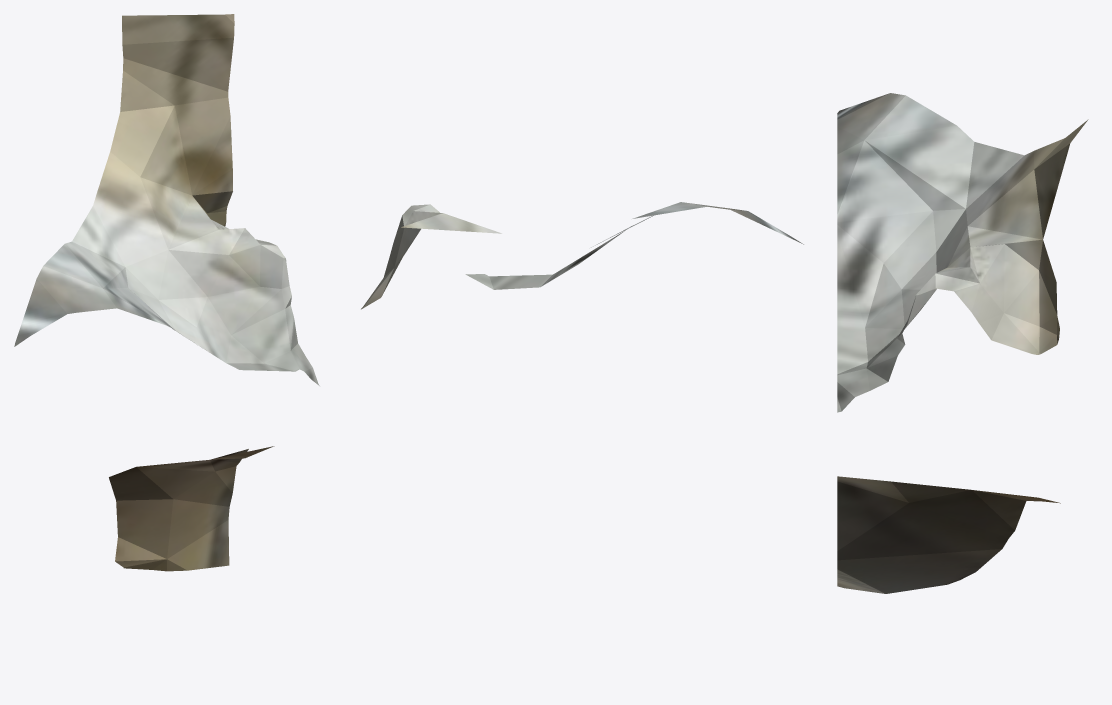
The picture shows the model from 3 angles, left to right: view 1: azimuth 30°, elevation 25°; view 2: azimuth 150°, elevation 25°; view 3: azimuth 270°, elevation 25°; orthographic projection. The views are drawn at different scales.
Bounding box in the file's own units: 0.9676 × 1.67 × 0.6285.
1 material, 1 textured.
